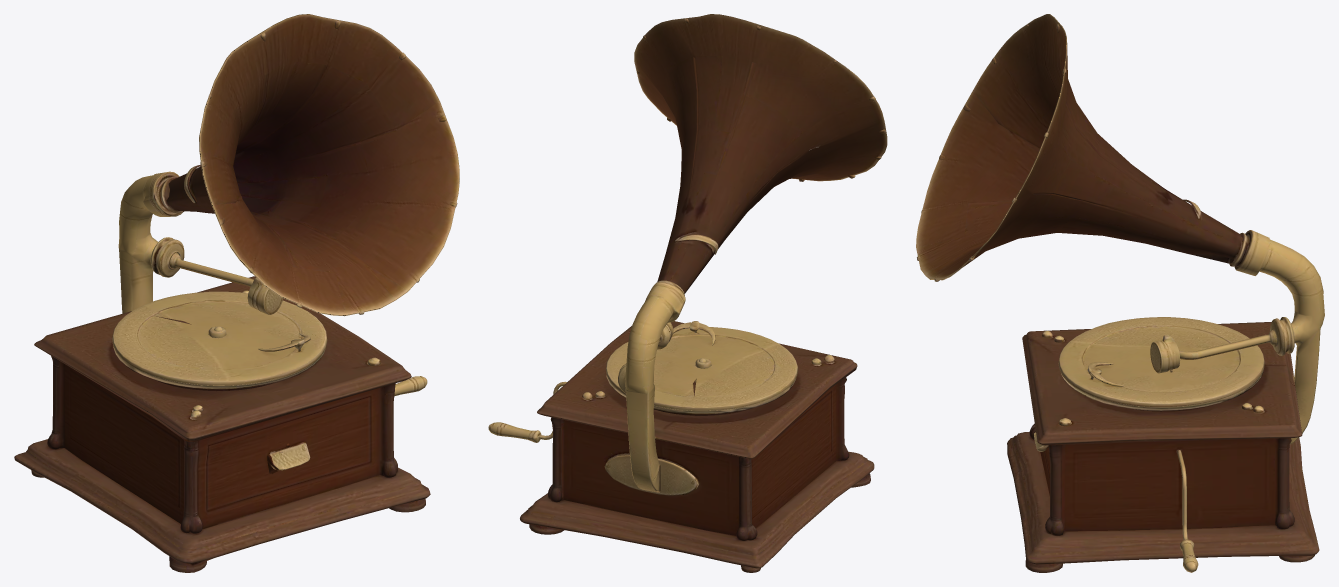
The model's file is gramophone.glb.
3 views of the same model, side by side, from view 1: azimuth 30°, elevation 25°; view 2: azimuth 150°, elevation 25°; view 3: azimuth 270°, elevation 25° (orthographic). The views are drawn at different scales.
Parts seen in each view (by area): view 1: e2211ffa_a810_402f_ac6c_ffaa20a3d28a; view 2: e2211ffa_a810_402f_ac6c_ffaa20a3d28a; view 3: e2211ffa_a810_402f_ac6c_ffaa20a3d28a.
Boxes of the visible parts, box(x1,y1,x2,y2) form: e2211ffa_a810_402f_ac6c_ffaa20a3d28a: box(14, 14, 459, 572); e2211ffa_a810_402f_ac6c_ffaa20a3d28a: box(488, 14, 887, 572); e2211ffa_a810_402f_ac6c_ffaa20a3d28a: box(916, 14, 1324, 572).
Bounding box in the file's own units: 0.7456 × 0.9995 × 0.7671.
Materials: 1 (1 with a texture image).
